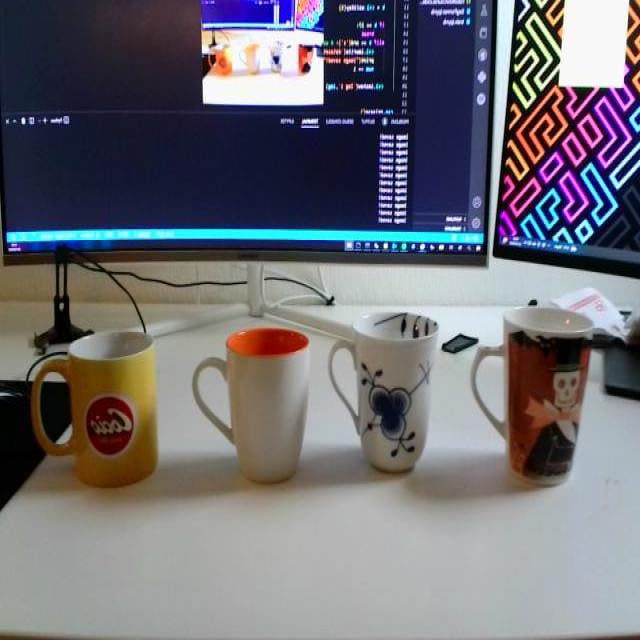cup: (27, 310, 166, 502), (470, 288, 599, 492), (189, 316, 315, 482), (329, 306, 446, 482)
